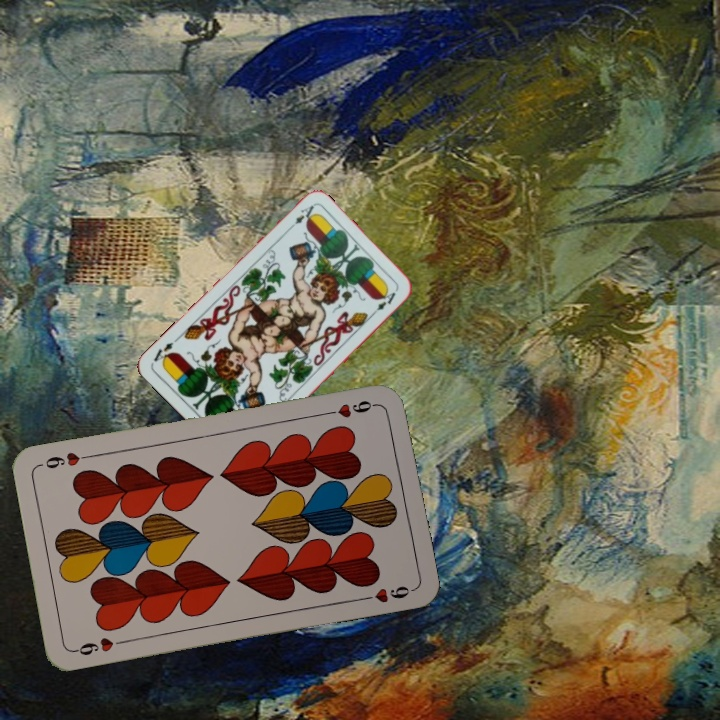EA: (284, 201, 318, 233)
H9: (70, 633, 129, 658), (322, 396, 381, 421)
